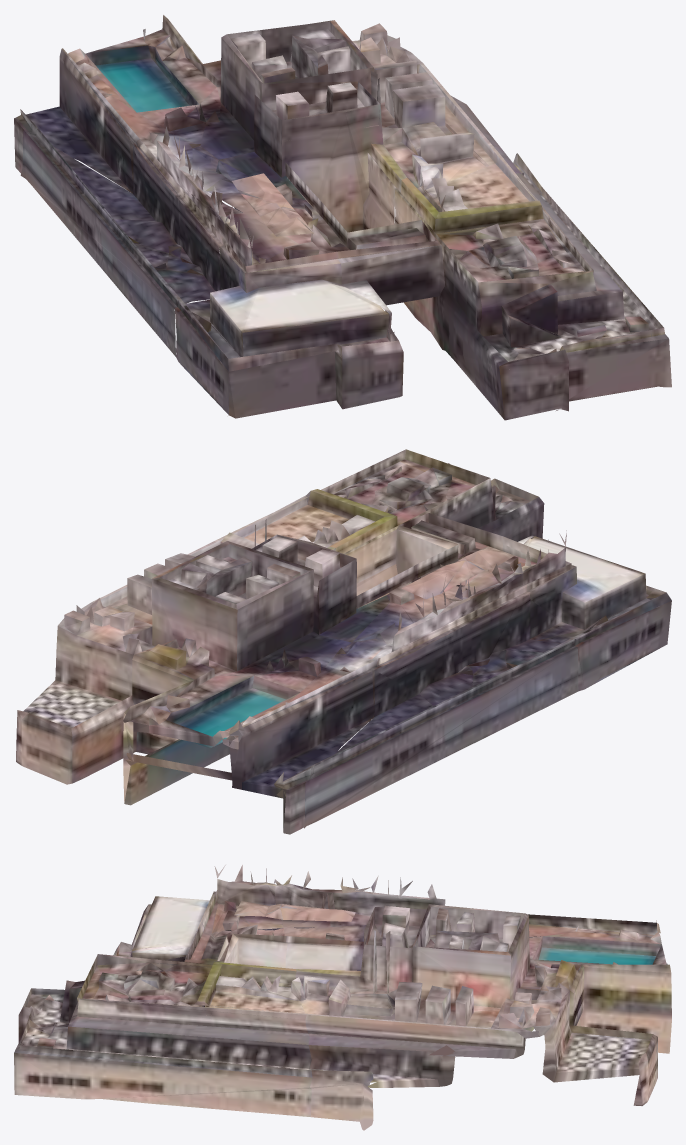
3 renders of one model, top to bottom at view 1: azimuth 30°, elevation 25°; view 2: azimuth 150°, elevation 25°; view 3: azimuth 270°, elevation 25°, orthographic. The views are drawn at different scales.
Visible parts, largest first — view 1: Mesh_0; view 2: Mesh_0; view 3: Mesh_0.
Boxes of the visible parts, x1,y1,x2,y2 form: Mesh_0: [14, 15, 671, 420]; Mesh_0: [16, 449, 671, 834]; Mesh_0: [14, 865, 671, 1130].
Bounding box in the file's own units: 41.46 × 16.48 × 67.28.
Materials: 1 (1 with a texture image).
